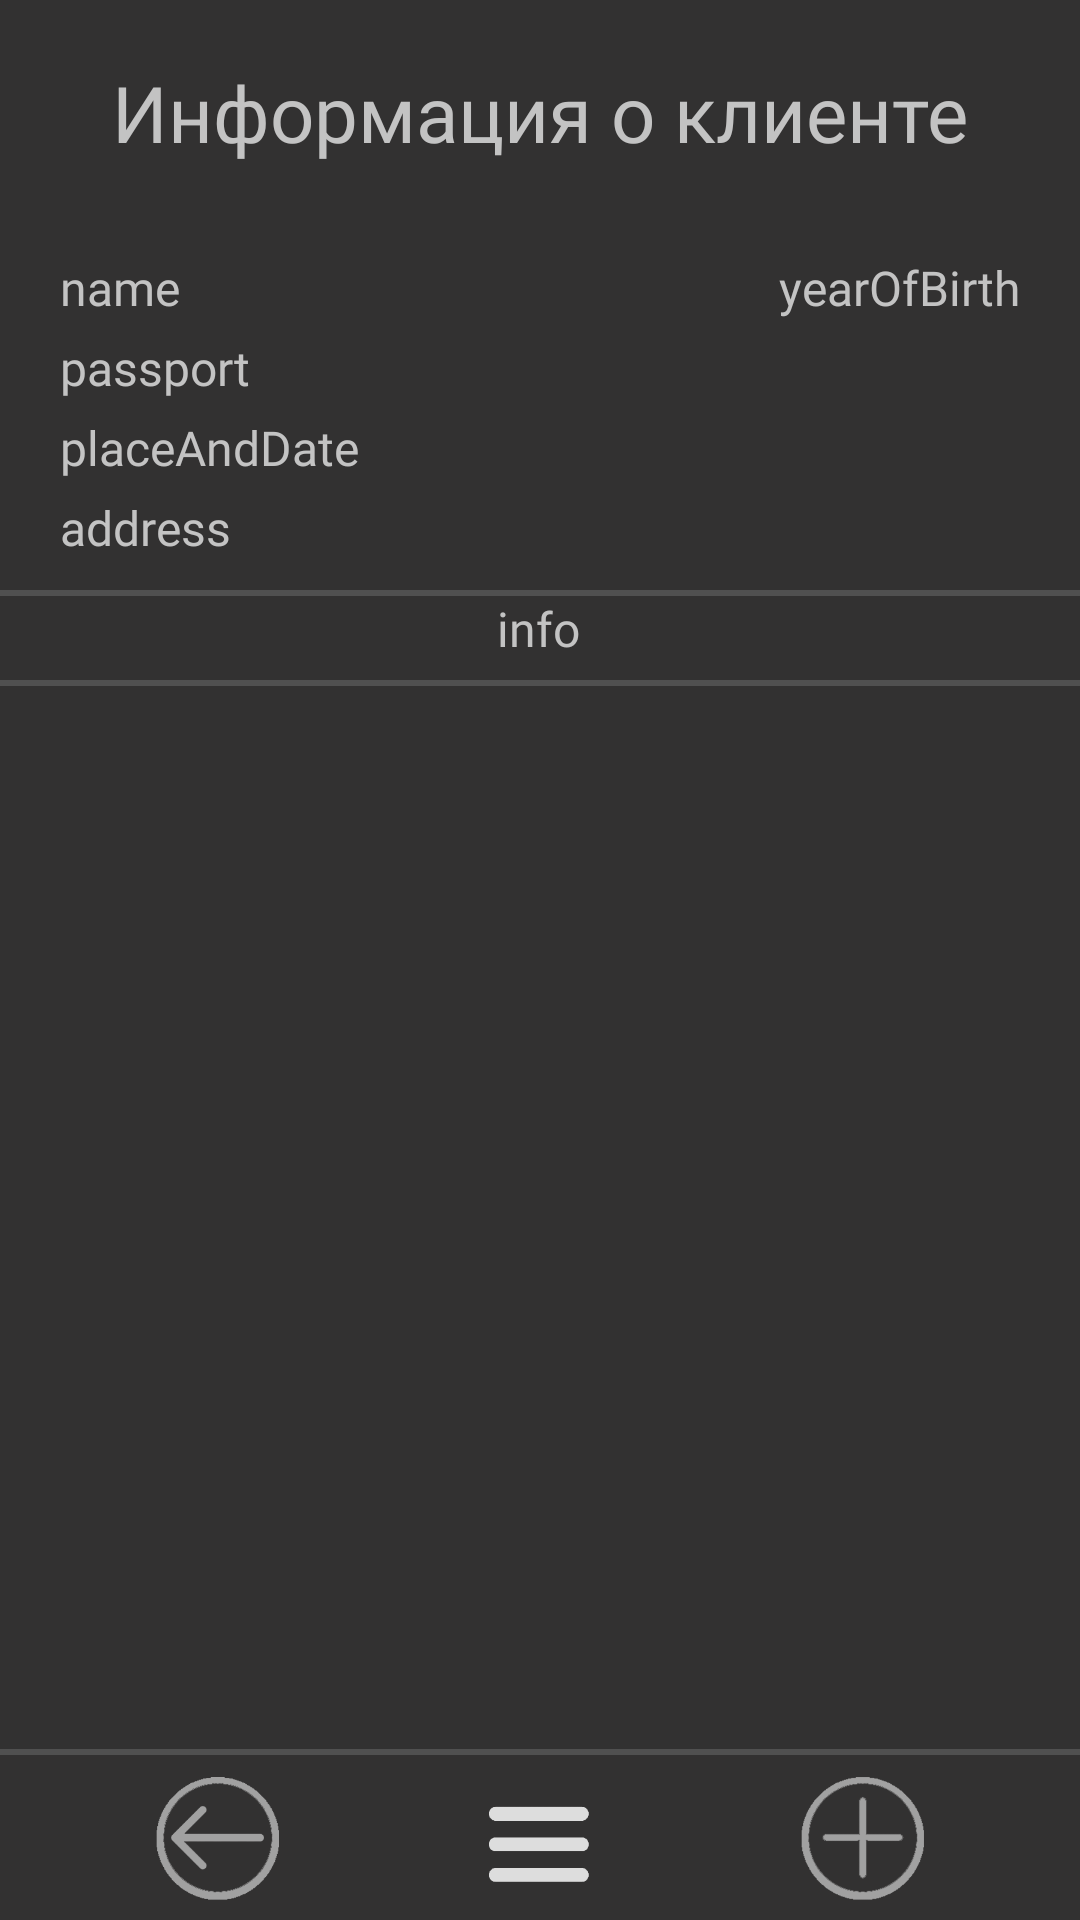

Screen size 1080w x 1920h. Icon name, then its box in pixels as (x1, y1, x2, y2):
arrow left: (156, 1777, 279, 1900)
menu: (489, 1807, 589, 1882)
plus: (801, 1777, 924, 1900)
